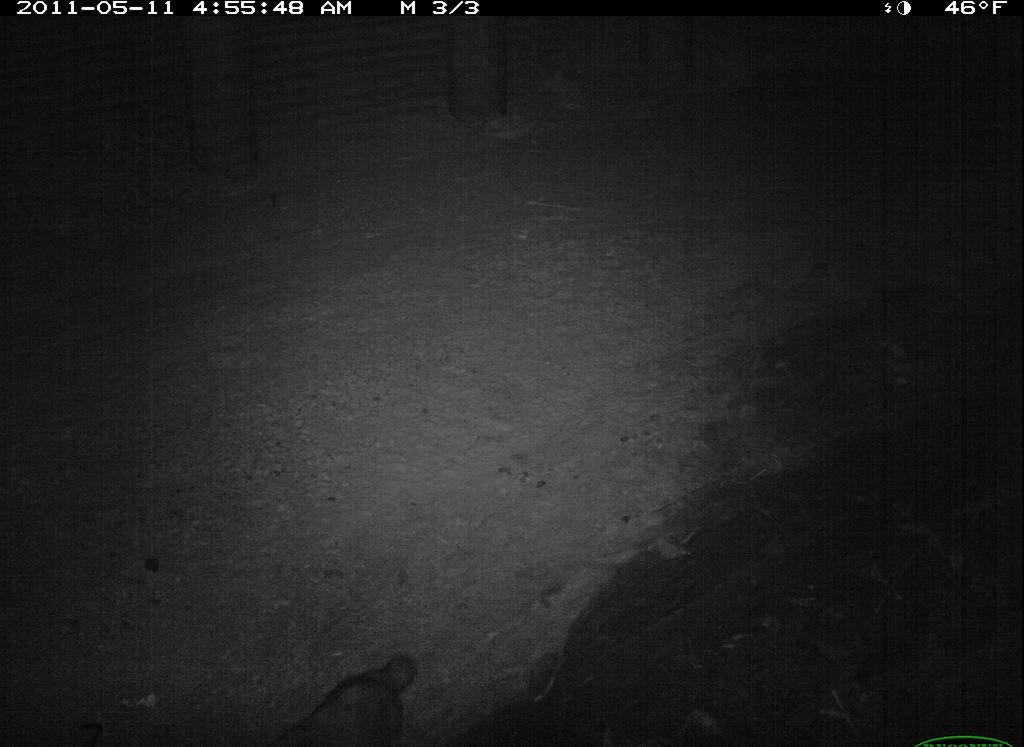raccoon: (263, 648, 447, 734)
